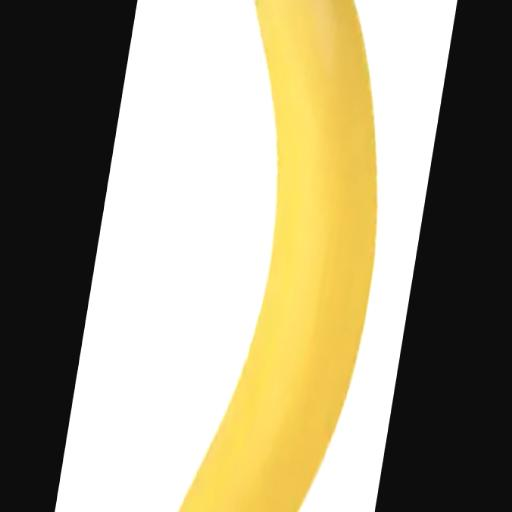banana-ripe: (127, 0, 403, 512)
